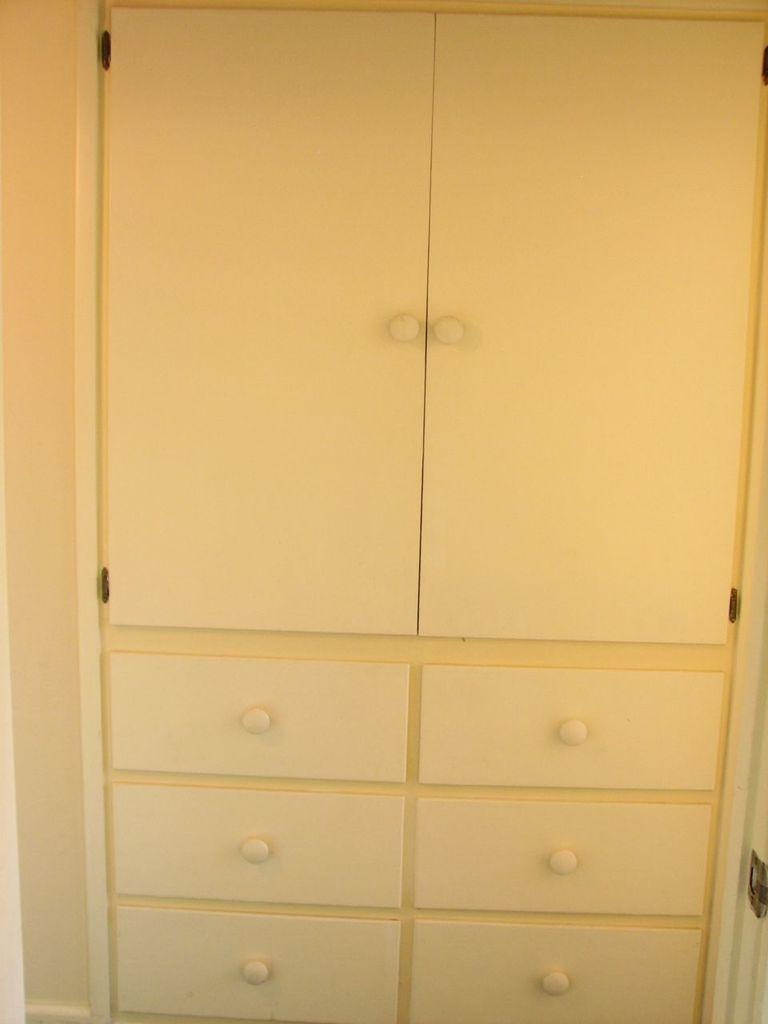cabinet_door: (115, 22, 413, 618), (441, 40, 719, 643), (430, 664, 716, 791), (114, 656, 403, 780), (126, 795, 402, 899), (434, 916, 688, 1024), (441, 814, 700, 918), (138, 920, 394, 1024)
handle: (538, 952, 574, 1012), (386, 290, 418, 354), (556, 696, 588, 760), (429, 300, 461, 356), (243, 700, 275, 756), (241, 953, 274, 1000), (552, 830, 578, 884), (243, 830, 268, 874)
